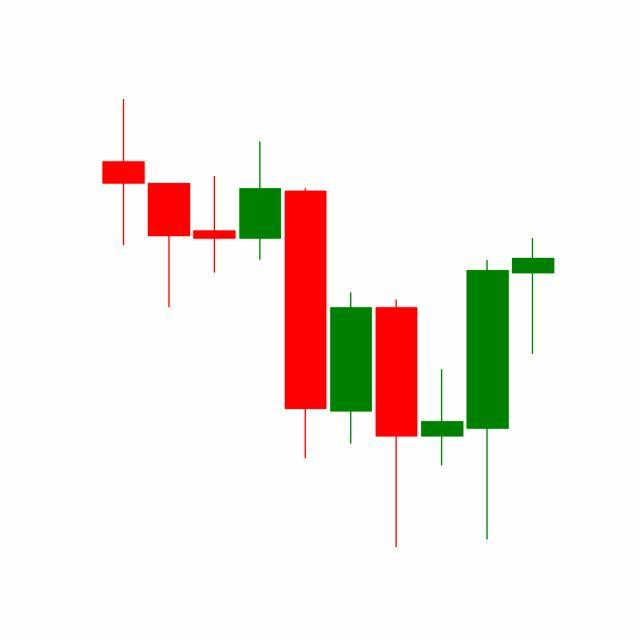Hikkake Pattern: (283, 184, 512, 548)
